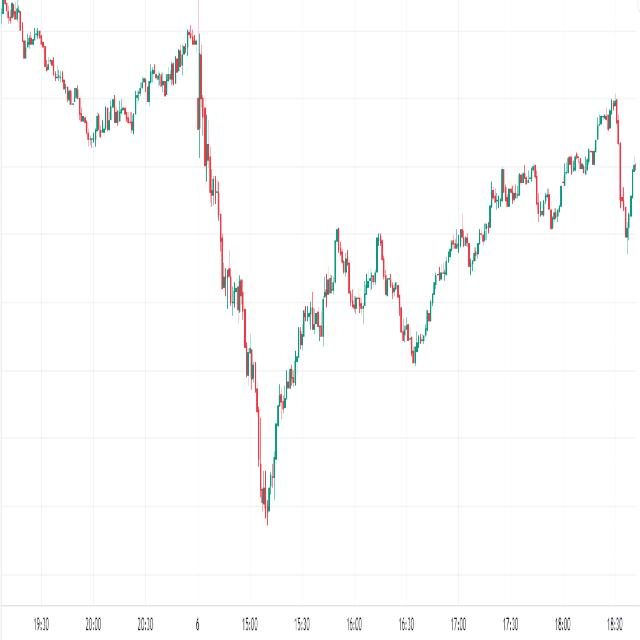Inverse-Head-Shoulders: (210, 216, 342, 535)
Rounding-Bottom: (31, 14, 192, 164)
